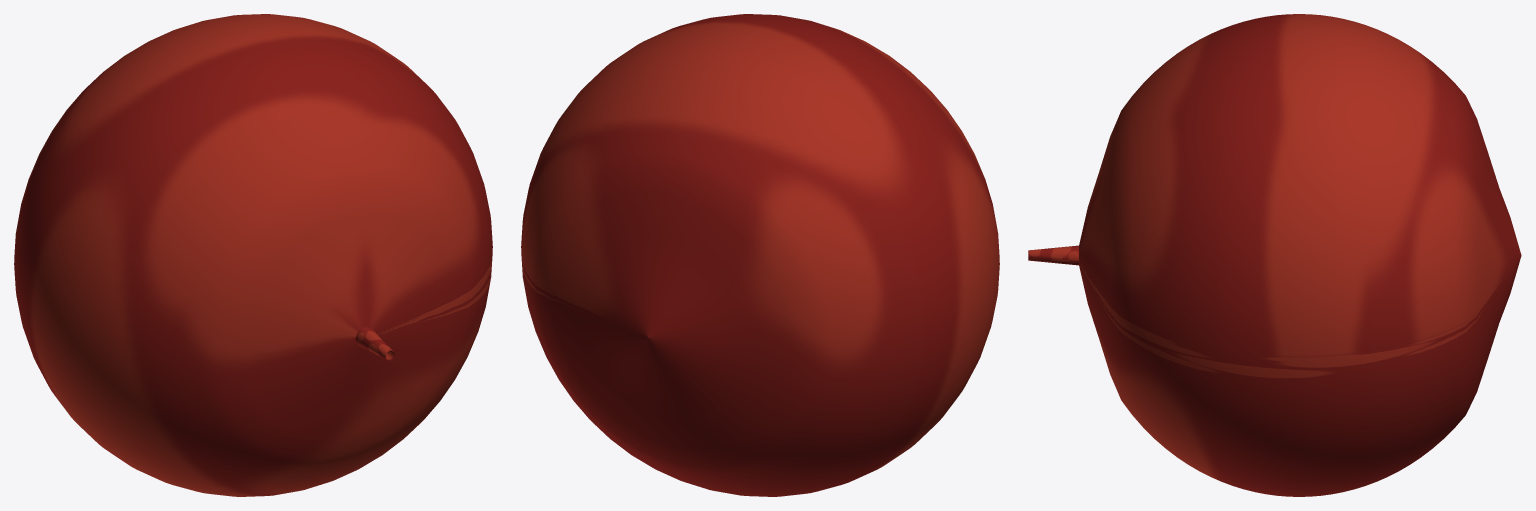
The model's file is apple_07_v2.obj.
The picture shows the model from 3 angles, left to right: view 1: azimuth 30°, elevation 25°; view 2: azimuth 150°, elevation 25°; view 3: azimuth 270°, elevation 25°; orthographic projection.
Bounding box in the file's own units: 2 × 2 × 2.04.
1 material, 1 textured.
